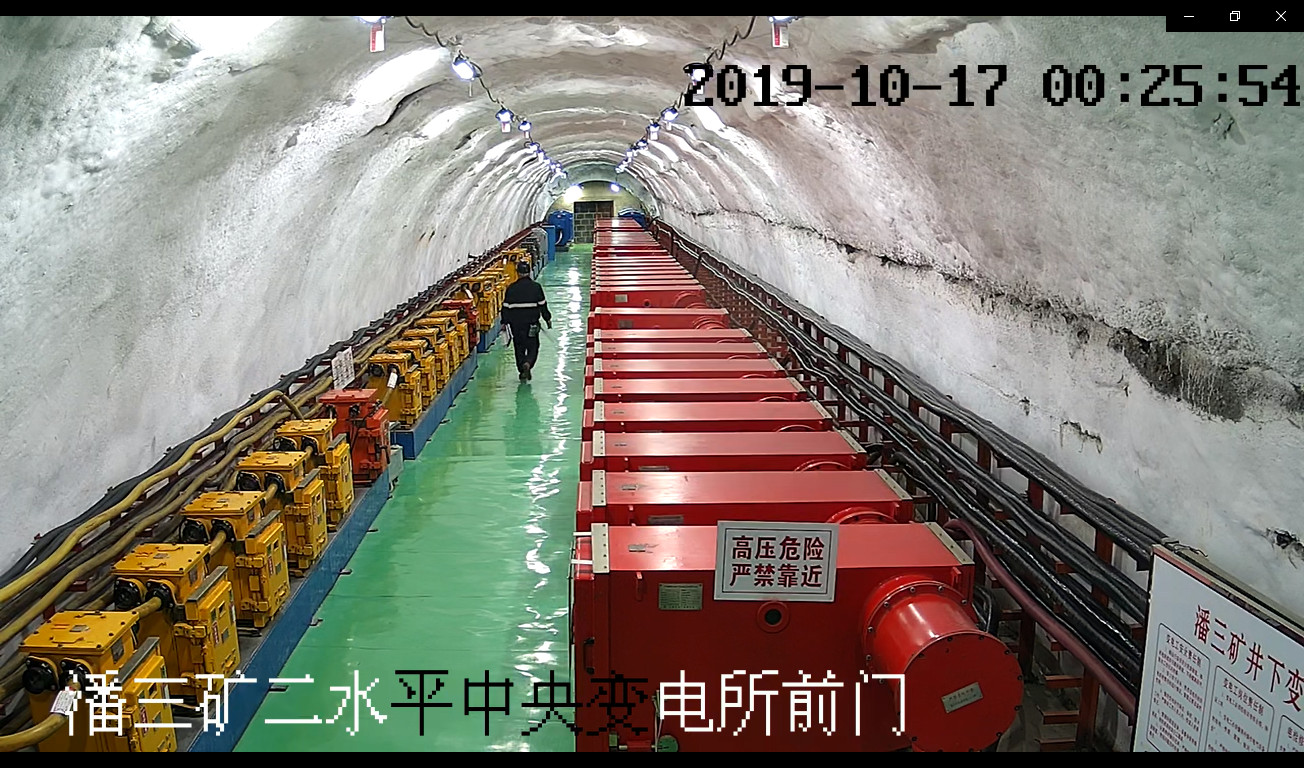helmet: (517, 260, 530, 274)
